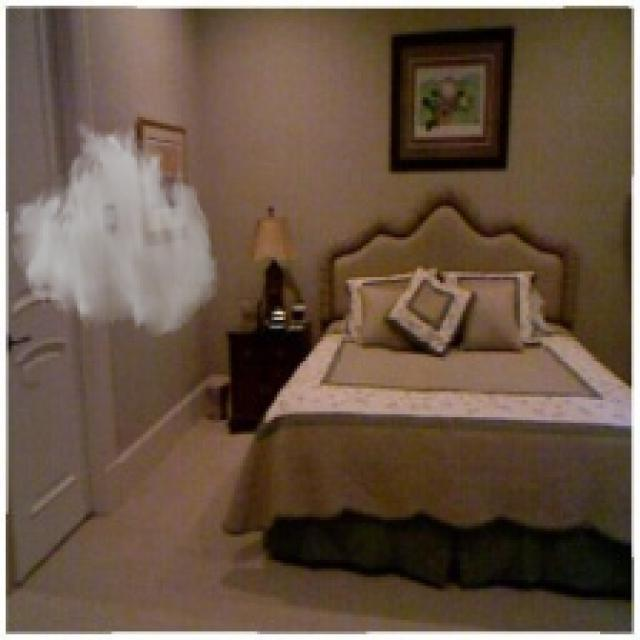Smoke: (8, 117, 220, 340)
